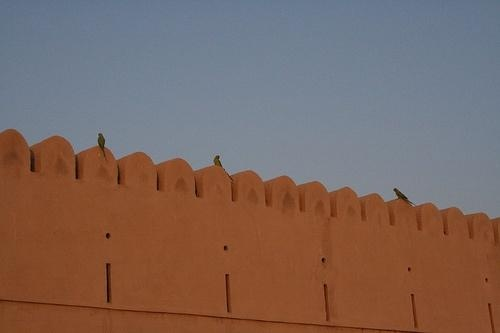bird: (212, 155, 235, 184), (392, 188, 418, 209), (96, 133, 110, 163)
